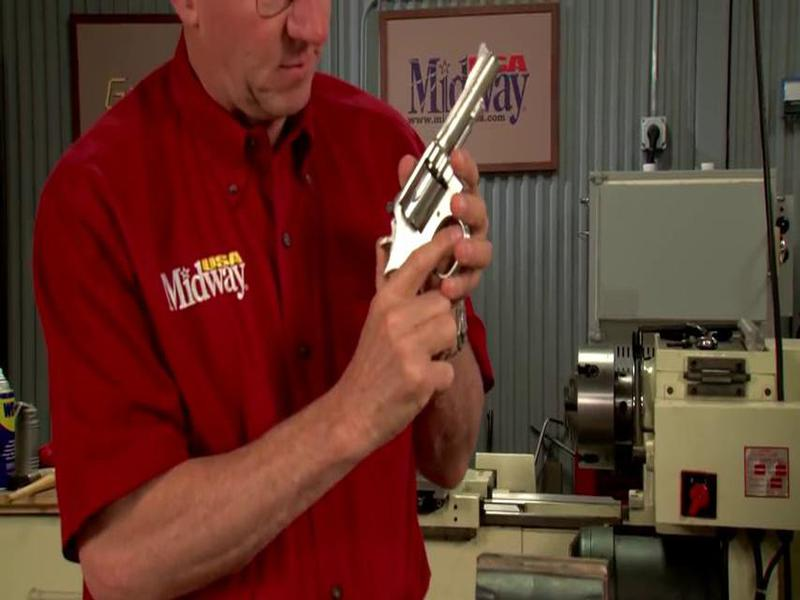Revolver: (357, 30, 512, 348)
